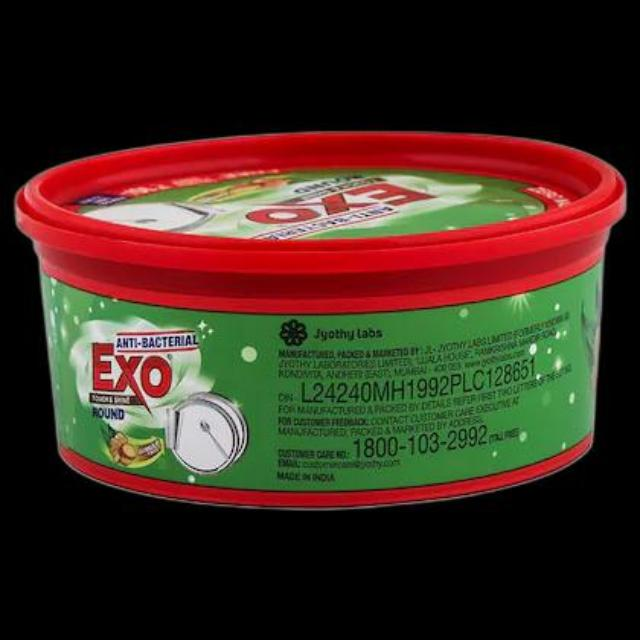Exo Touch - Shine Anti-Bacterial Round Dishwash Bar 500 g: (8, 118, 626, 512)
